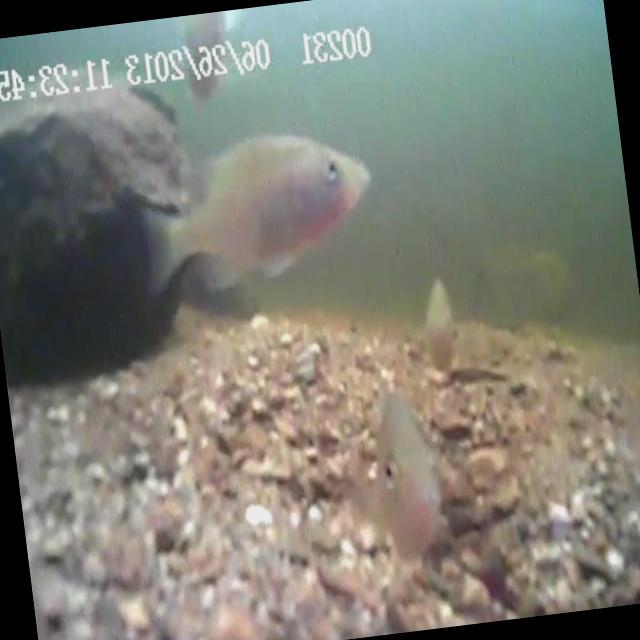Gunes Levregi: (0, 50, 391, 390), (361, 378, 454, 571), (413, 268, 469, 390)
